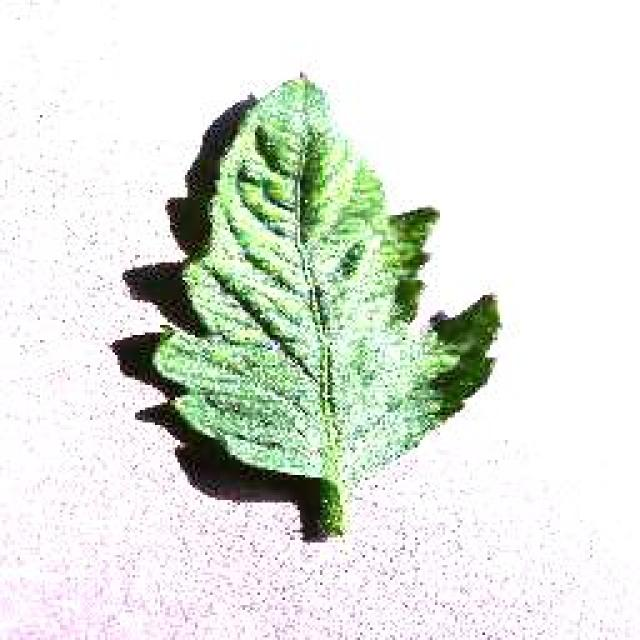Tomato___Tomato_mosaic_virus: (152, 78, 498, 532)
